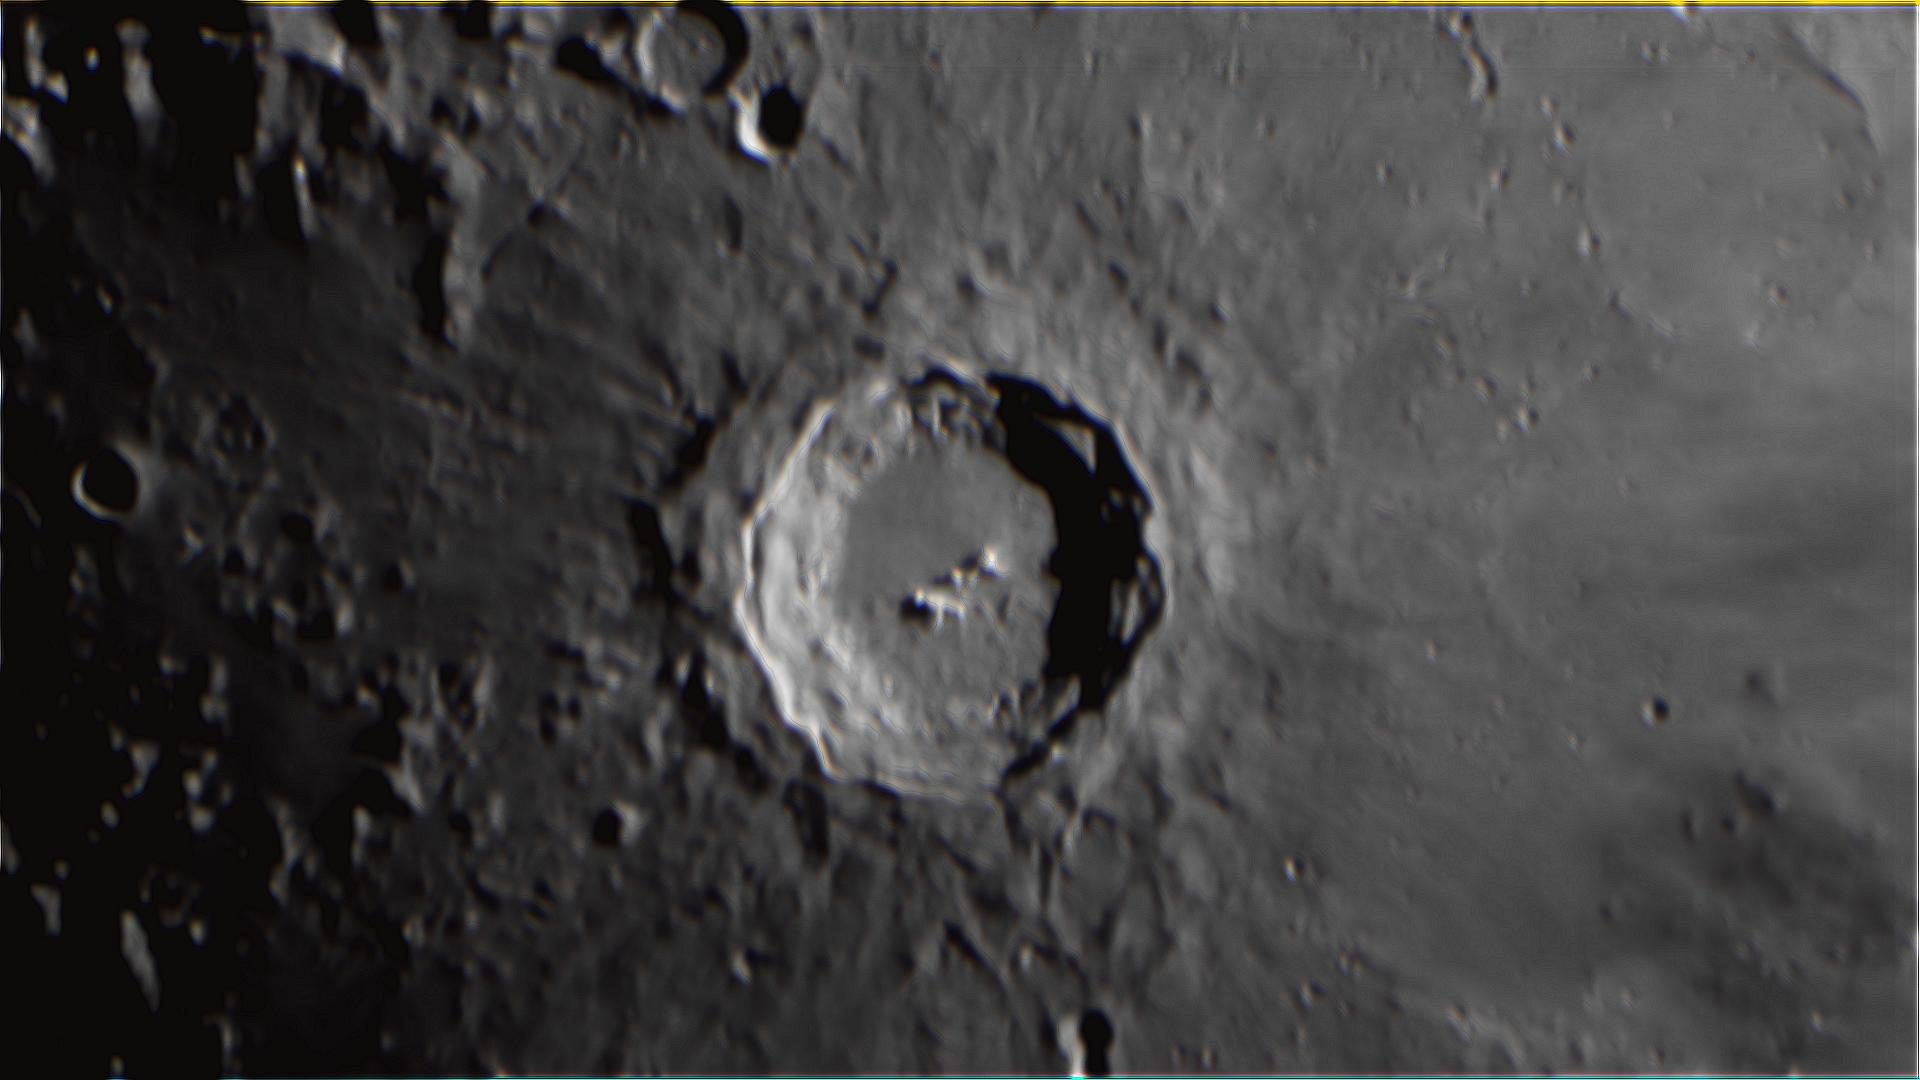crater: (641, 264, 1250, 881), (1584, 640, 1710, 785), (51, 423, 160, 553), (725, 76, 845, 182)
